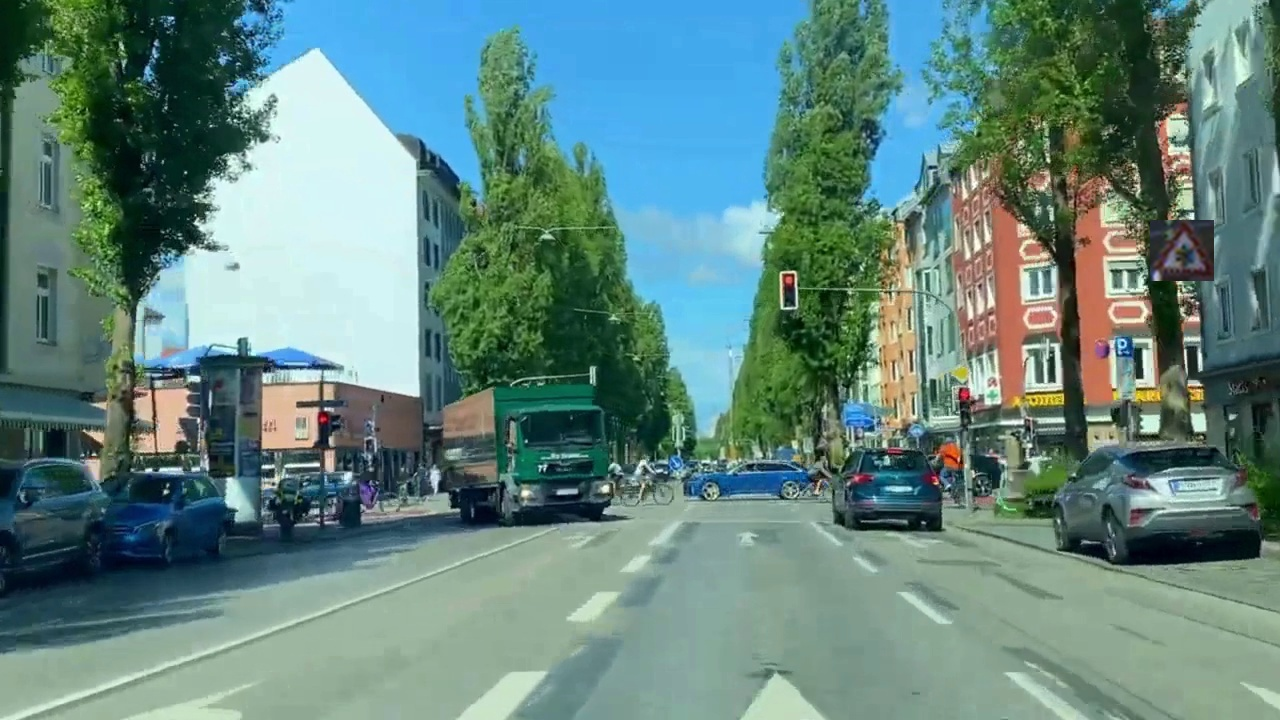Ice/snow: (1150, 220, 1214, 281)
